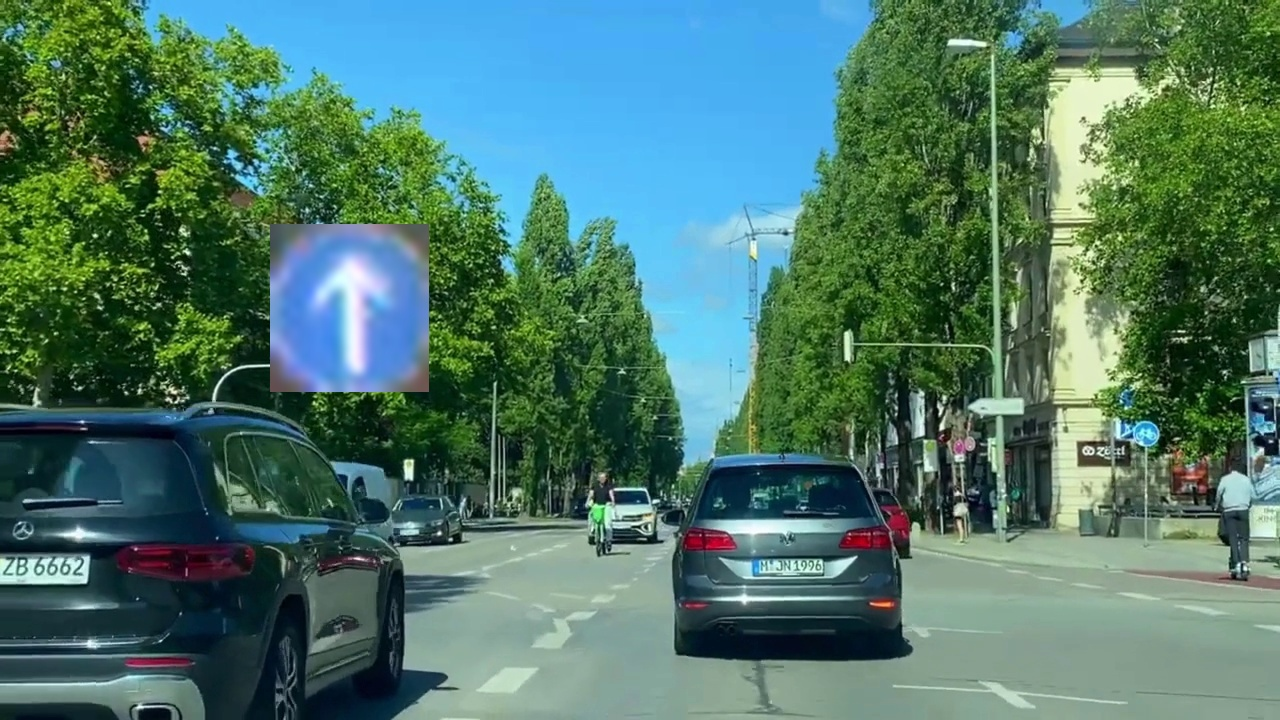Ahead only: (270, 224, 429, 392)
